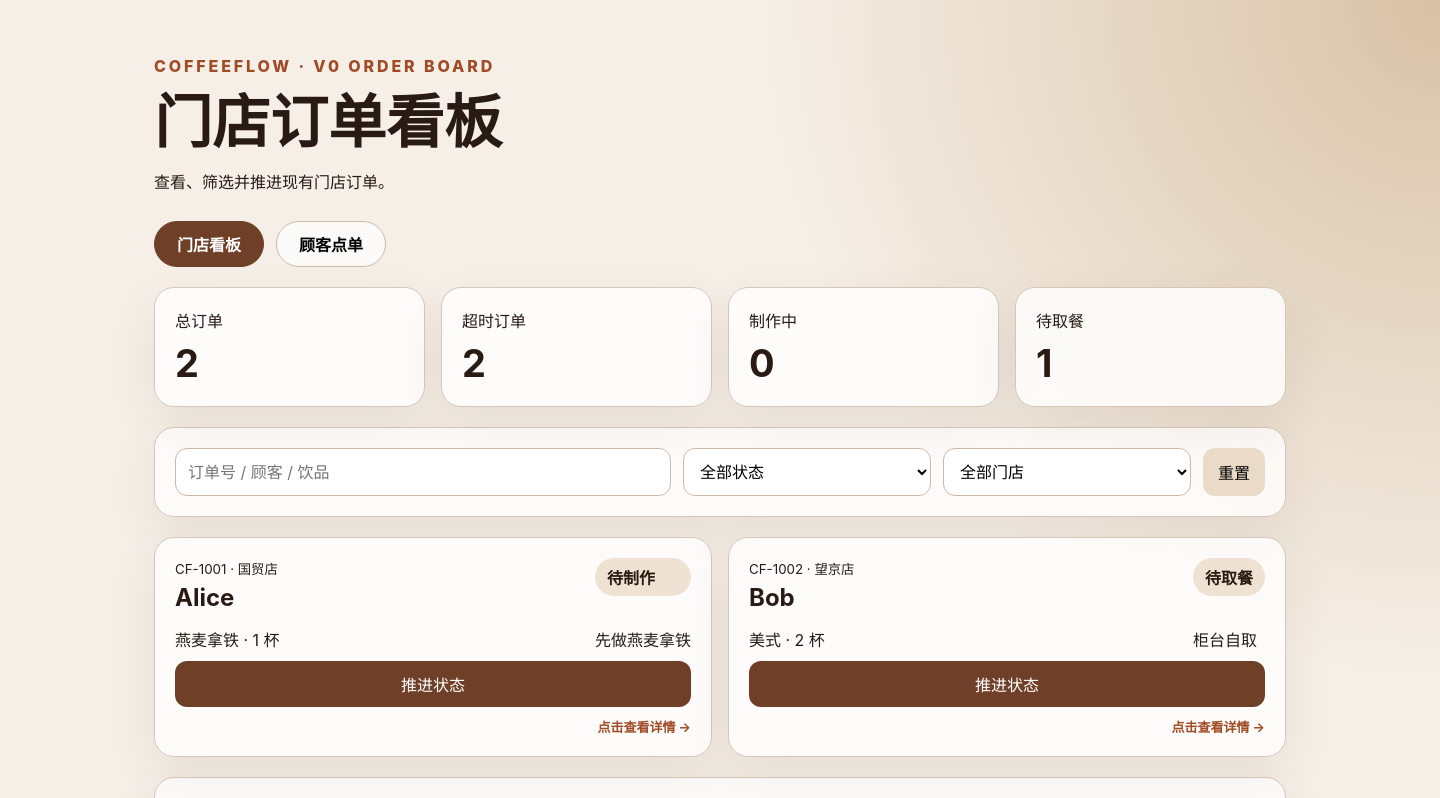
CoffeeFlow V0 › 状态更新失败时保留订单看板并显示错误
Click the button "推进状态" below "燕麦拿铁 · 1 杯" at (433, 684), box [175,661,691,707]
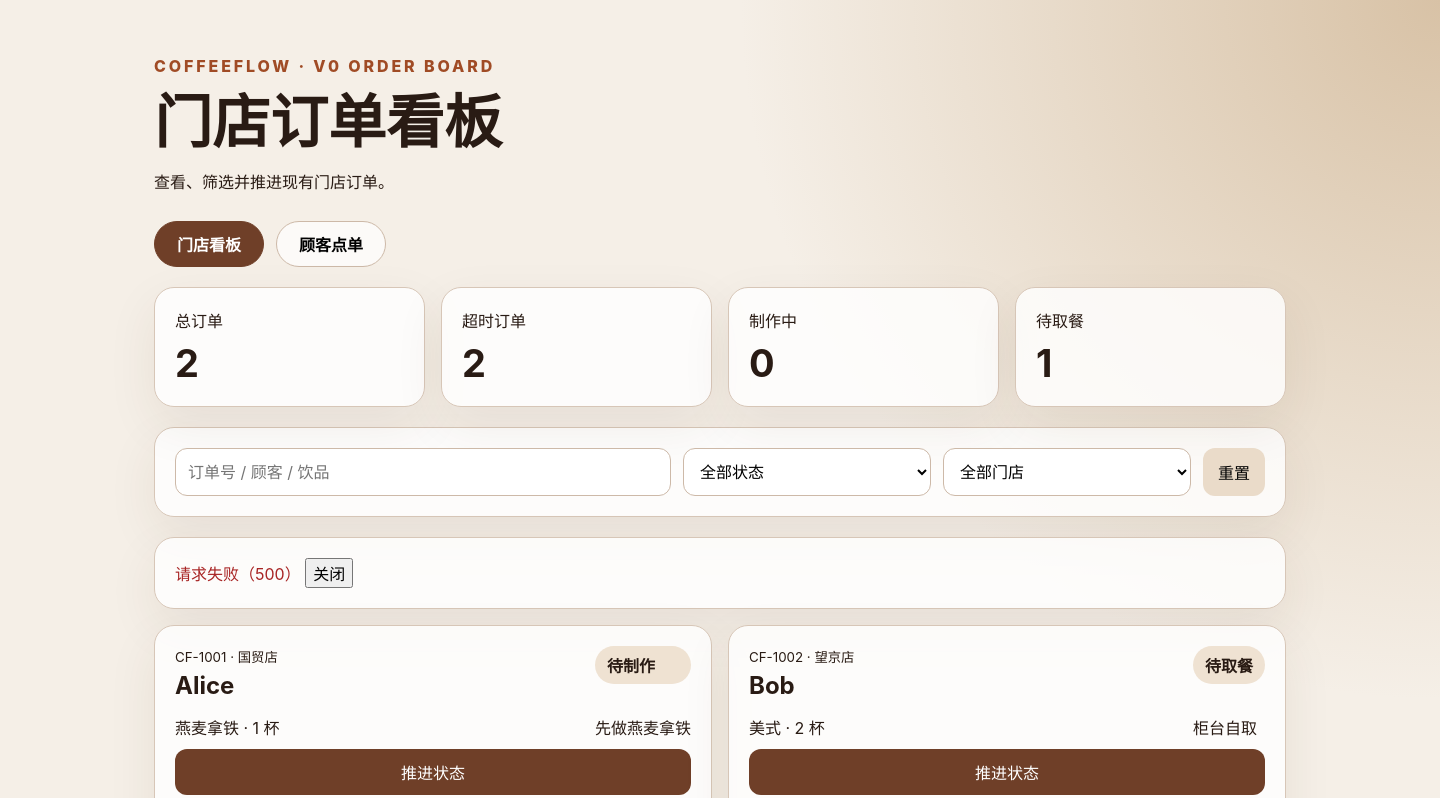
Expected: the text "CF-1001" is shown, [175,649,278,665]
Result: the text "请求失败（500）" is shown at [175,564,305,584]
